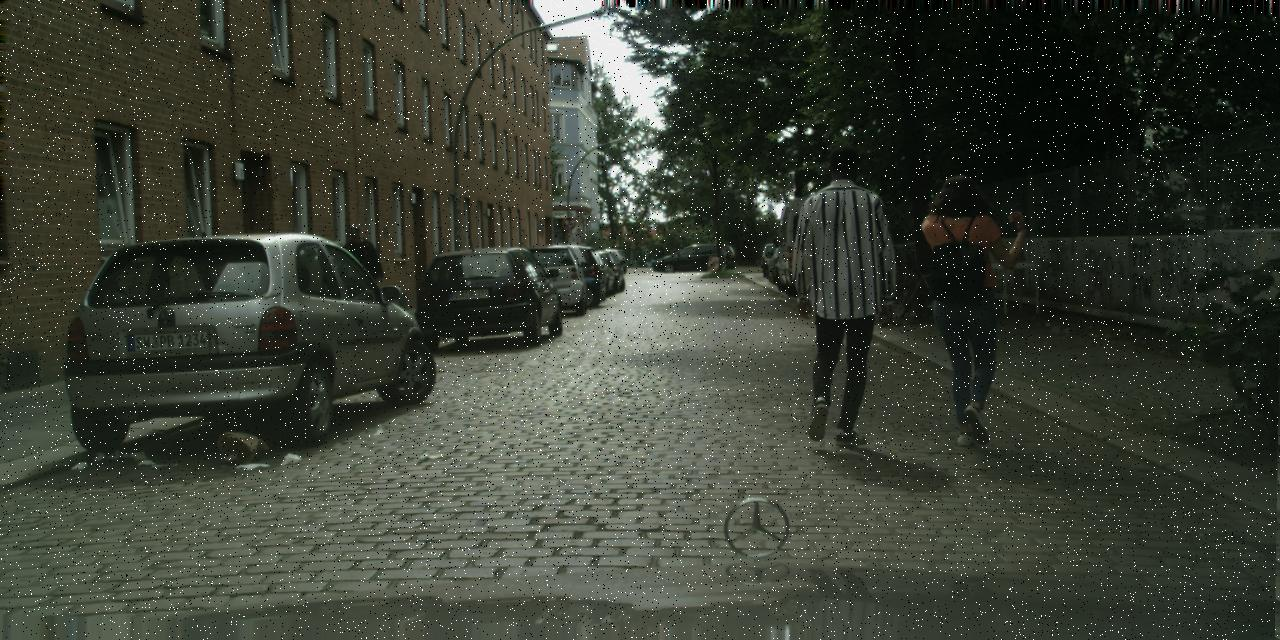ped: (776, 142, 898, 441), (912, 173, 1023, 446), (338, 225, 379, 328), (654, 244, 664, 269), (671, 246, 678, 264)
